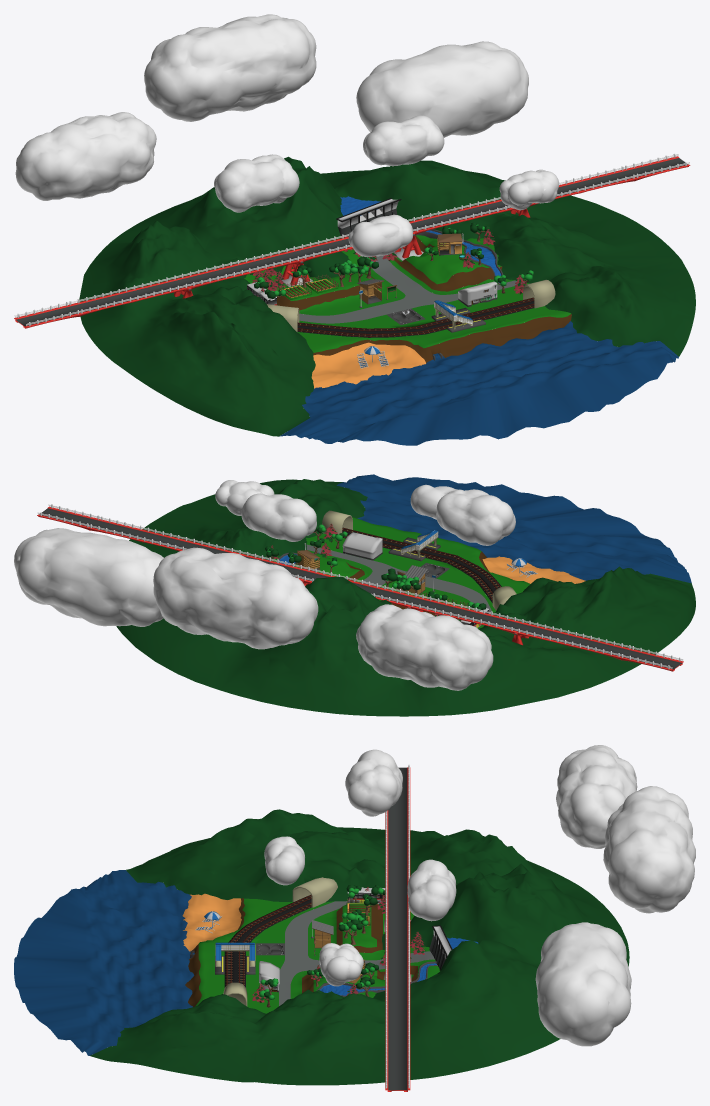
The model's file is GGL.glb.
3 views of the same model, one above another, from view 1: azimuth 30°, elevation 25°; view 2: azimuth 150°, elevation 25°; view 3: azimuth 270°, elevation 25° (orthographic). The views are drawn at different scales.
Visible parts, largest first — view 1: other, cloud_back, cloud4, cloud1, cloud3, cloud2; view 2: other, cloud_back, cloud4, cloud1, cloud2, cloud3; view 3: other, cloud_back, cloud4, cloud1, cloud3, cloud2.
Part boxes in pixels (left/top/right/bottom): other: left=14, top=153, right=695, bottom=445; cloud_back: left=15, top=14, right=528, bottom=200; cloud4: left=214, top=154, right=299, bottom=212; cloud1: left=363, top=115, right=444, bottom=166; cloud3: left=348, top=214, right=413, bottom=257; cloud2: left=499, top=169, right=558, bottom=210; other: left=37, top=474, right=695, bottom=716; cloud_back: left=14, top=528, right=493, bottom=690; cloud4: left=436, top=489, right=515, bottom=545; cloud1: left=241, top=493, right=316, bottom=541; cloud2: left=215, top=480, right=274, bottom=515; cloud3: left=410, top=484, right=457, bottom=519; other: left=14, top=764, right=629, bottom=1091; cloud_back: left=535, top=745, right=695, bottom=1046; cloud4: left=345, top=749, right=402, bottom=816; cloud1: left=407, top=859, right=456, bottom=921; cloud3: left=264, top=836, right=304, bottom=885; cloud2: left=319, top=943, right=363, bottom=986.
Bounding box in the file's own units: 33.96 × 8.27 × 30.35.
Materials: 32 (1 with a texture image).
